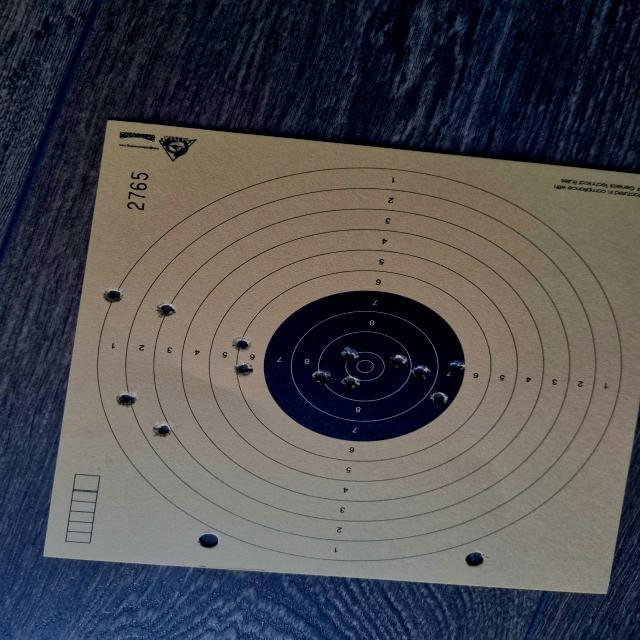1: (103, 286, 123, 306)
10: (336, 376, 360, 392), (338, 348, 360, 364)
2: (113, 389, 141, 410)
3: (150, 421, 174, 440), (154, 300, 178, 318)
6: (231, 334, 253, 352), (234, 361, 253, 379)
7: (429, 389, 453, 409), (445, 358, 469, 377)
8: (410, 363, 432, 380)
9: (387, 350, 410, 369), (310, 367, 332, 386)
Target: (96, 167, 621, 565)
black_contour: (265, 290, 472, 443)
